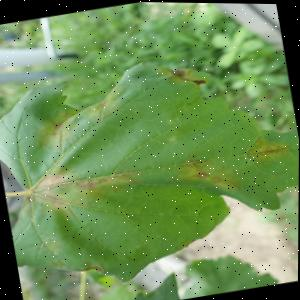Folha: (0, 35, 300, 300)
Fungo: (25, 131, 294, 207), (73, 82, 132, 124), (33, 106, 81, 155), (242, 133, 295, 168), (191, 165, 239, 196), (28, 230, 66, 260), (170, 62, 211, 89), (74, 173, 117, 193), (77, 259, 104, 278), (171, 67, 186, 78), (191, 170, 208, 179), (25, 186, 37, 196), (164, 134, 177, 143)
